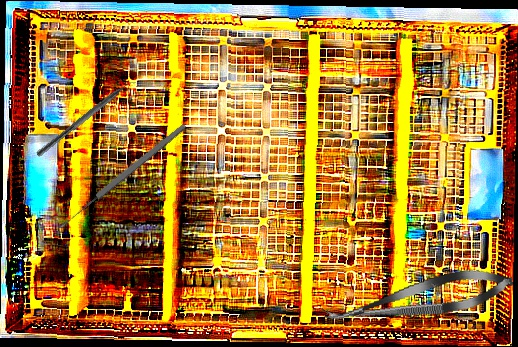Chopper: (34, 71, 145, 165)
Micro Scissor: (320, 262, 516, 336)
Surgical Spoon: (55, 121, 189, 232)
